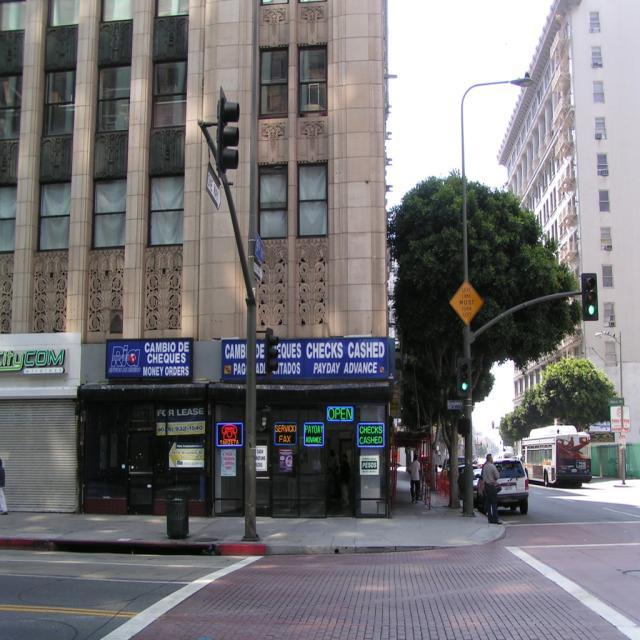traffic light: (217, 96, 240, 174), (581, 273, 598, 320), (265, 328, 279, 373), (458, 360, 471, 394)
